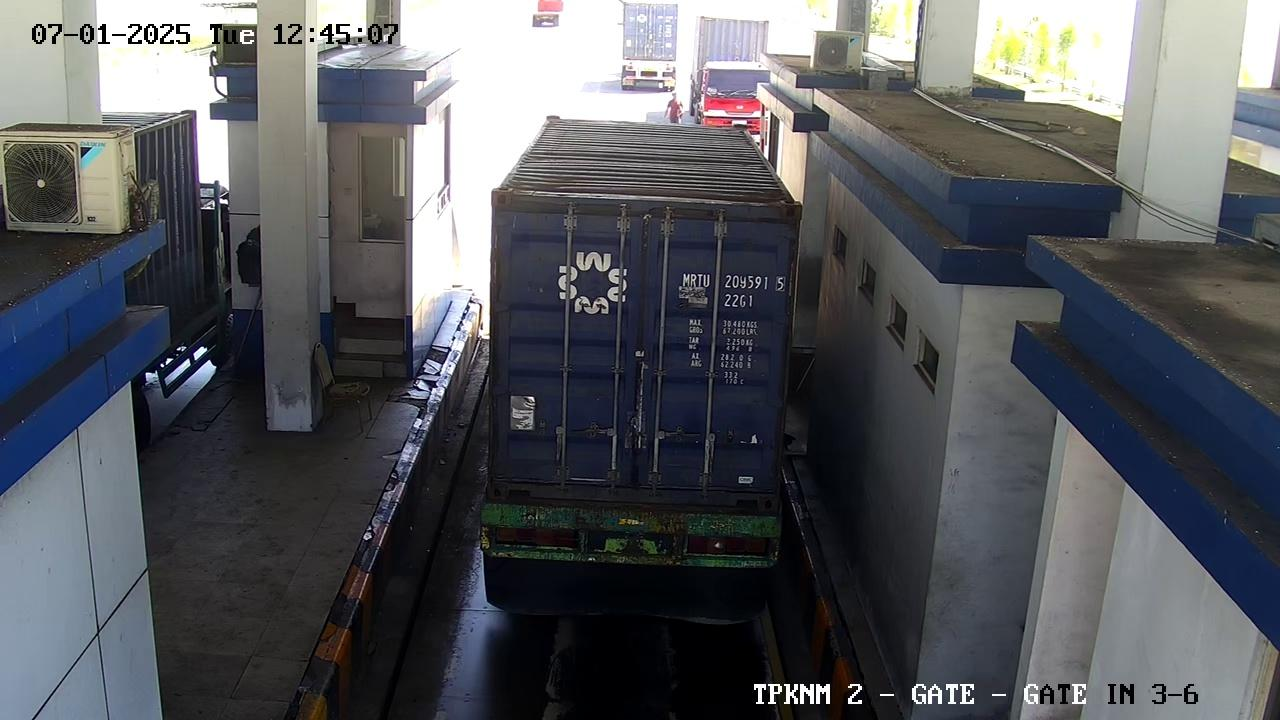Container_ID: (670, 265, 792, 293)
